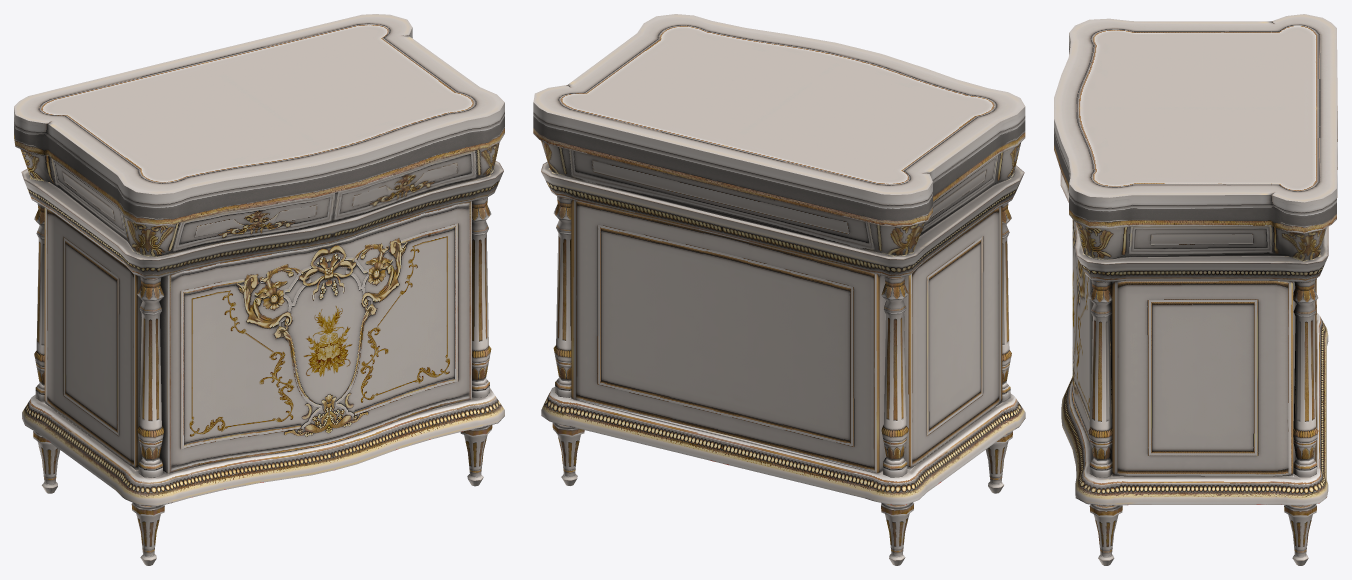
The model's file is Cabinet05.FBX.
The picture shows the model from 3 angles, left to right: view 1: azimuth 30°, elevation 25°; view 2: azimuth 150°, elevation 25°; view 3: azimuth 270°, elevation 25°; orthographic projection.
Visible parts, largest first — view 1: Cabinet05; view 2: Cabinet05; view 3: Cabinet05.
Boxes of the visible parts, x1,y1,x2,y2 form: Cabinet05: [14, 14, 504, 565]; Cabinet05: [533, 14, 1025, 565]; Cabinet05: [1054, 14, 1337, 565].
Bounding box in the file's own units: 138 × 87.87 × 129.
